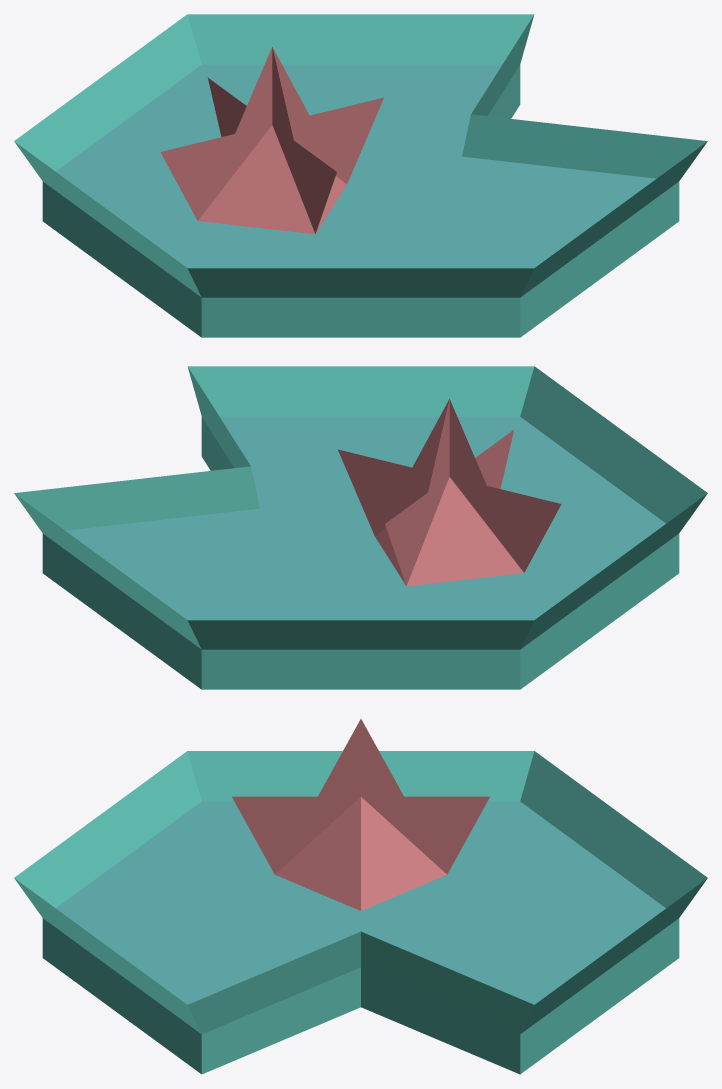
Rendered from lily_large.glb.
The picture shows the model from 3 angles, top to bottom: view 1: azimuth 30°, elevation 25°; view 2: azimuth 150°, elevation 25°; view 3: azimuth 270°, elevation 25°; orthographic projection.
Visible parts, largest first — view 1: lily_large; view 2: lily_large; view 3: lily_large.
Boxes of the visible parts, bbox=[...] form: lily_large: bbox=[14, 14, 707, 337]; lily_large: bbox=[14, 366, 707, 689]; lily_large: bbox=[14, 719, 707, 1074].
Size of the model in its own units: 0.2719 by 0.098 by 0.3139.
